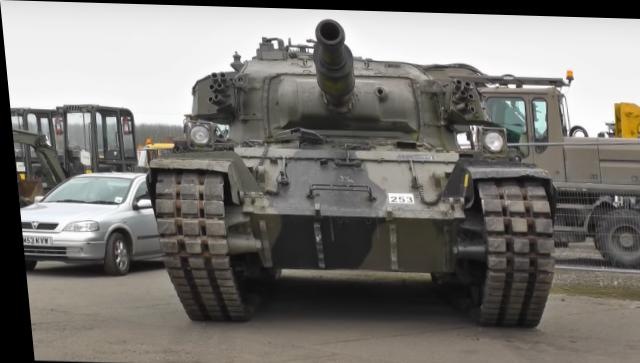tank: (155, 47, 545, 316)
